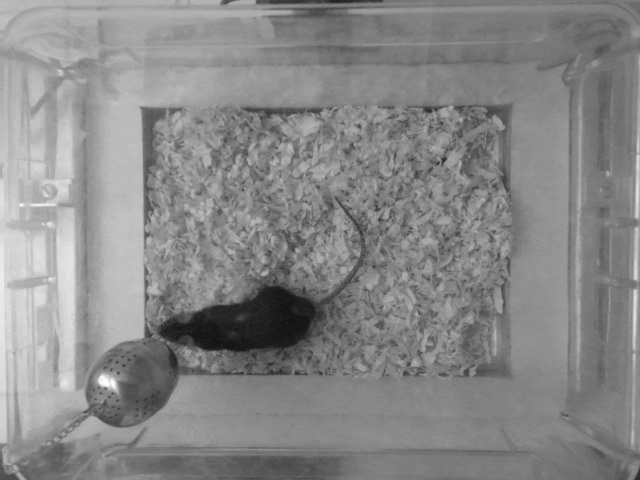mice: (153, 199, 373, 352)
